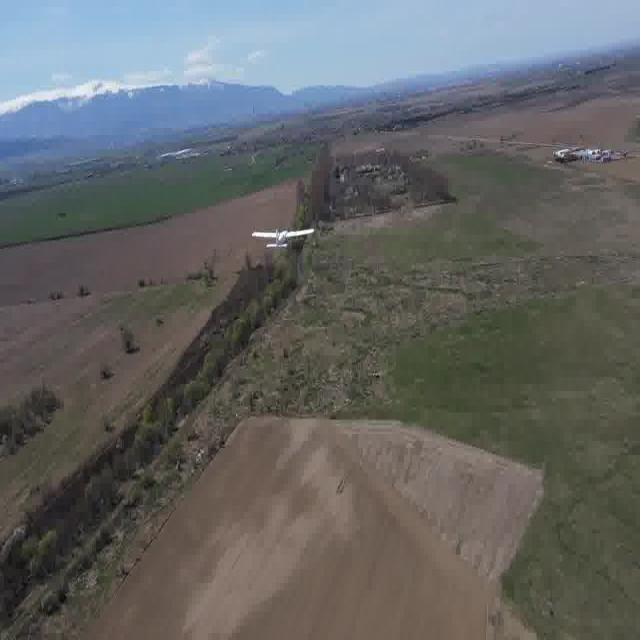iha: (279, 215, 285, 264)
